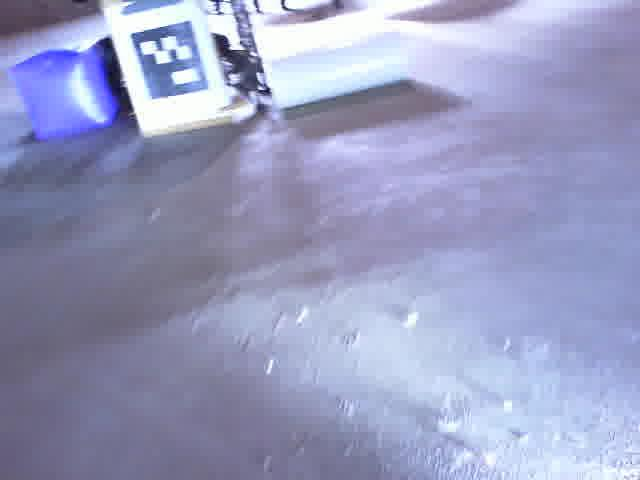coral: (269, 29, 413, 113)
